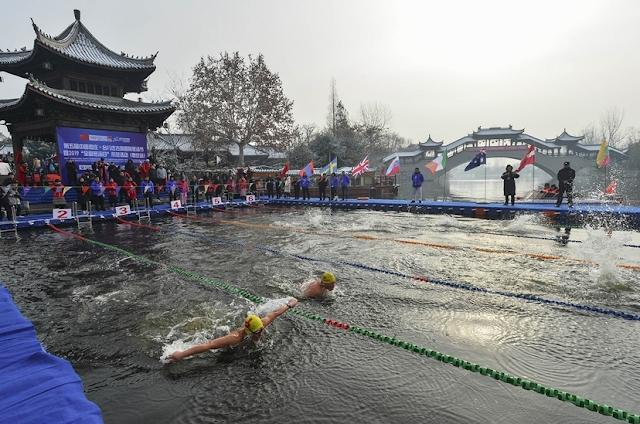human: (166, 294, 296, 363), (298, 269, 338, 300)
